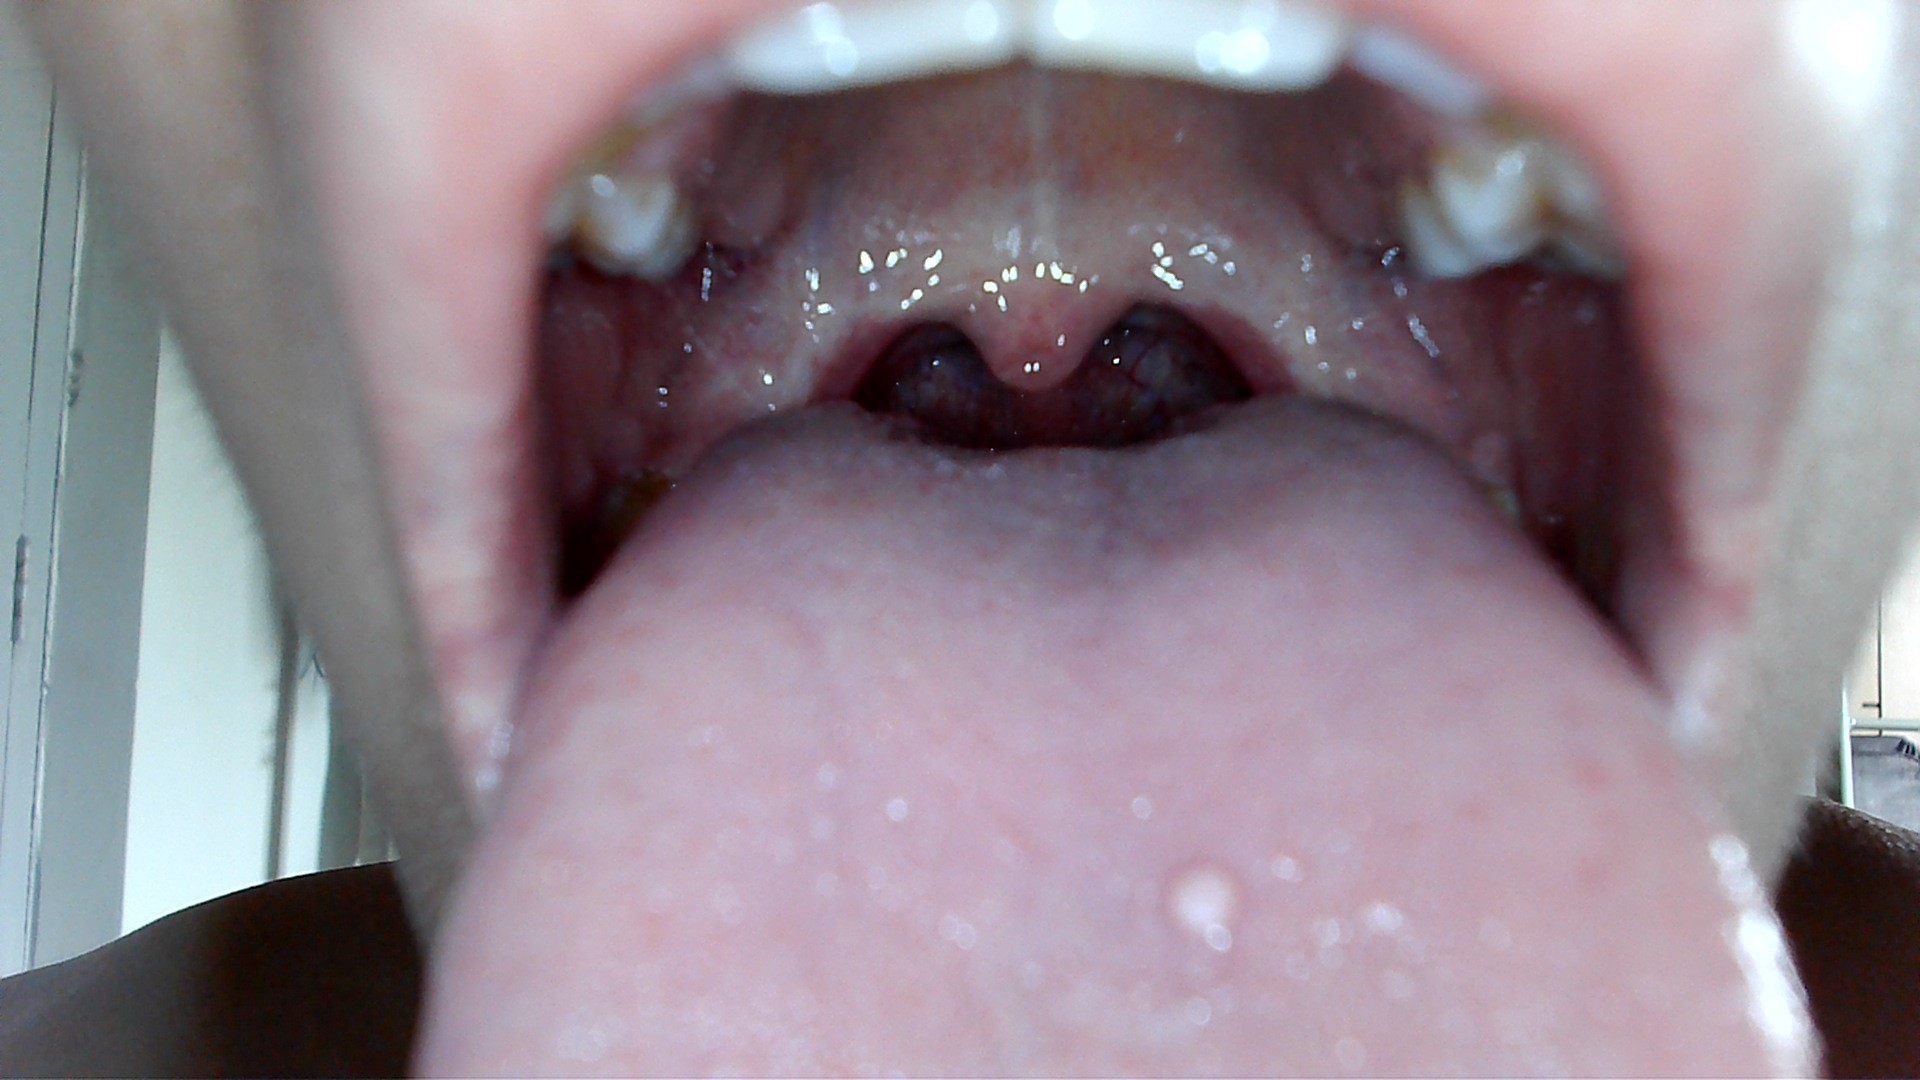throat: (1211, 228, 1382, 388), (678, 287, 890, 407)
